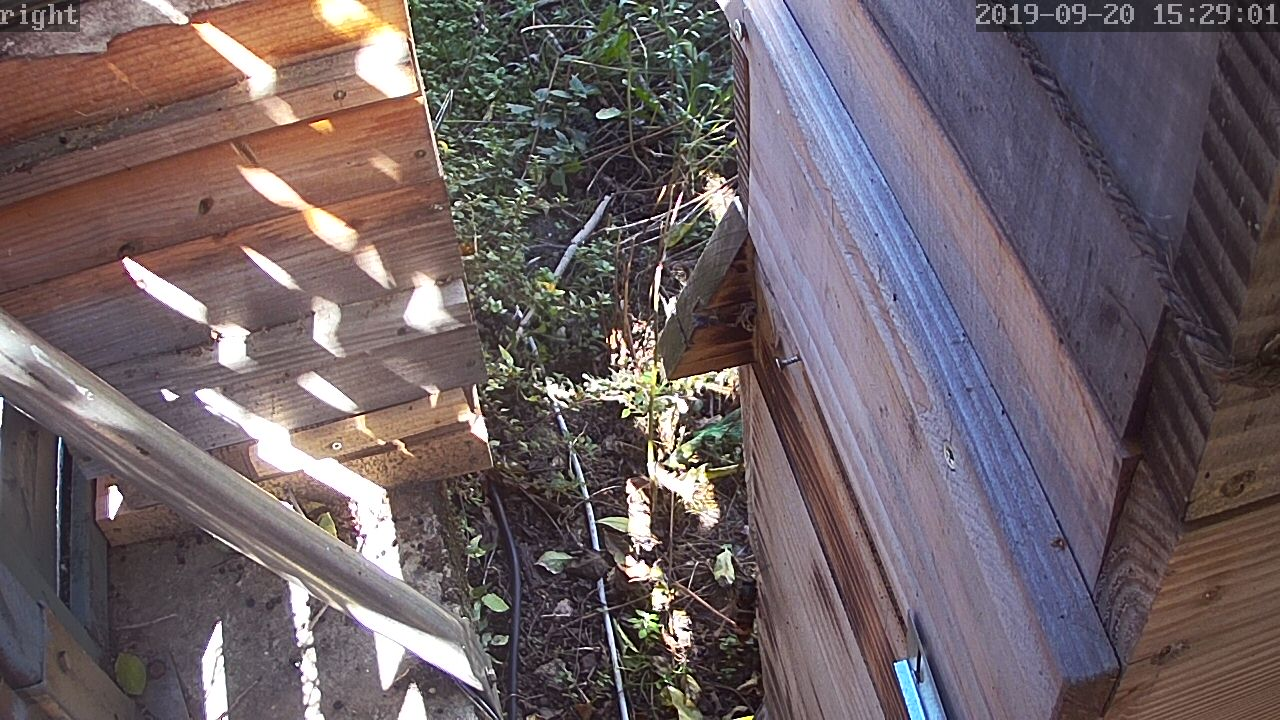hornet: (726, 572, 771, 648)
